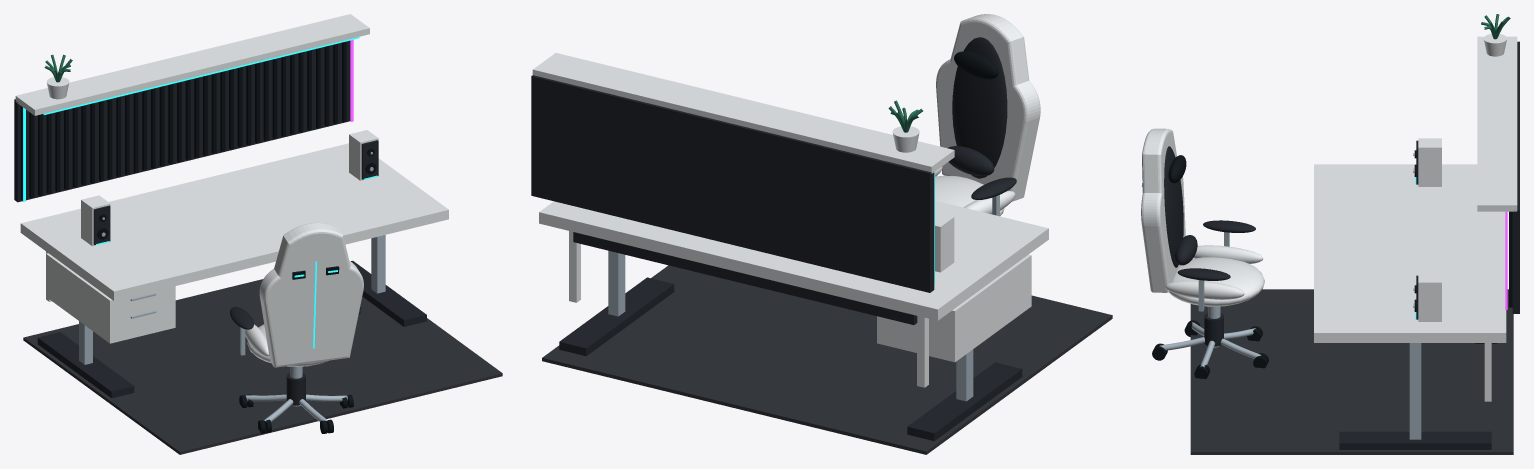
Rendered from furniture85-white.glb.
3 renders of one model, left to right at view 1: azimuth 30°, elevation 25°; view 2: azimuth 150°, elevation 25°; view 3: azimuth 270°, elevation 25°, orthographic. The views are drawn at different scales.
Visible parts, largest first — view 1: s83-surface-90847e2e-922b-4b5a-a0fe-fff6924f1ed7, s83-surface-aa664992-cf1b-49a1-b93f-7f7a795a4200, s83-surface-a03c0ad1-ae45-4ed0-a01d-bd4db454fd55, s83-surface-e42613d8-9011-41a7-87e3-e46d6d5ea70d, s83-surface-0daeed23-d696-46df-a78f-bfb14573ae7e, s83-surface-d917ec18-a28d-44b5-84c7-04a947ea24c4; view 2: s83-surface-a03c0ad1-ae45-4ed0-a01d-bd4db454fd55, s83-surface-90847e2e-922b-4b5a-a0fe-fff6924f1ed7, s83-surface-aa664992-cf1b-49a1-b93f-7f7a795a4200, s83-surface-0daeed23-d696-46df-a78f-bfb14573ae7e, s83-surface-e42613d8-9011-41a7-87e3-e46d6d5ea70d; view 3: s83-surface-90847e2e-922b-4b5a-a0fe-fff6924f1ed7, s83-surface-aa664992-cf1b-49a1-b93f-7f7a795a4200, s83-surface-a03c0ad1-ae45-4ed0-a01d-bd4db454fd55, s83-surface-0daeed23-d696-46df-a78f-bfb14573ae7e, s83-surface-e42613d8-9011-41a7-87e3-e46d6d5ea70d.
Boxes of the visible parts, bbox=[...] form: s83-surface-90847e2e-922b-4b5a-a0fe-fff6924f1ed7: bbox=[15, 14, 448, 367]; s83-surface-aa664992-cf1b-49a1-b93f-7f7a795a4200: bbox=[23, 279, 502, 454]; s83-surface-a03c0ad1-ae45-4ed0-a01d-bd4db454fd55: bbox=[14, 40, 426, 405]; s83-surface-e42613d8-9011-41a7-87e3-e46d6d5ea70d: bbox=[20, 41, 376, 433]; s83-surface-0daeed23-d696-46df-a78f-bfb14573ae7e: bbox=[79, 152, 385, 422]; s83-surface-d917ec18-a28d-44b5-84c7-04a947ea24c4: bbox=[23, 37, 377, 348]; s83-surface-a03c0ad1-ae45-4ed0-a01d-bd4db454fd55: bbox=[531, 37, 1022, 441]; s83-surface-90847e2e-922b-4b5a-a0fe-fff6924f1ed7: bbox=[532, 14, 1048, 387]; s83-surface-aa664992-cf1b-49a1-b93f-7f7a795a4200: bbox=[542, 265, 1112, 454]; s83-surface-0daeed23-d696-46df-a78f-bfb14573ae7e: bbox=[608, 195, 999, 401]; s83-surface-e42613d8-9011-41a7-87e3-e46d6d5ea70d: bbox=[954, 51, 998, 79]; s83-surface-90847e2e-922b-4b5a-a0fe-fff6924f1ed7: bbox=[1141, 34, 1517, 401]; s83-surface-aa664992-cf1b-49a1-b93f-7f7a795a4200: bbox=[1190, 289, 1513, 454]; s83-surface-a03c0ad1-ae45-4ed0-a01d-bd4db454fd55: bbox=[1164, 41, 1519, 449]; s83-surface-0daeed23-d696-46df-a78f-bfb14573ae7e: bbox=[1160, 153, 1421, 439]; s83-surface-e42613d8-9011-41a7-87e3-e46d6d5ea70d: bbox=[1142, 150, 1512, 378].
Size of the model in its own units: 2.2 by 1.76 by 2.09.
